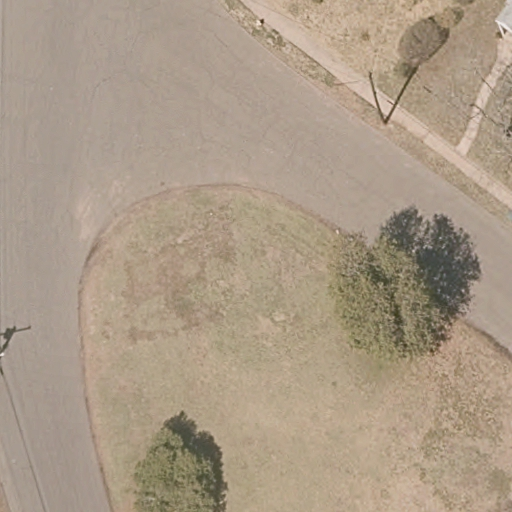DT: (363, 70, 393, 130)
